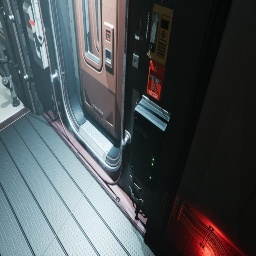EmergencyPhone ,: (146, 0, 174, 66)
FireAlarm ,: (147, 59, 166, 101)
SafetySwitchPanel ,: (22, 0, 51, 69)
